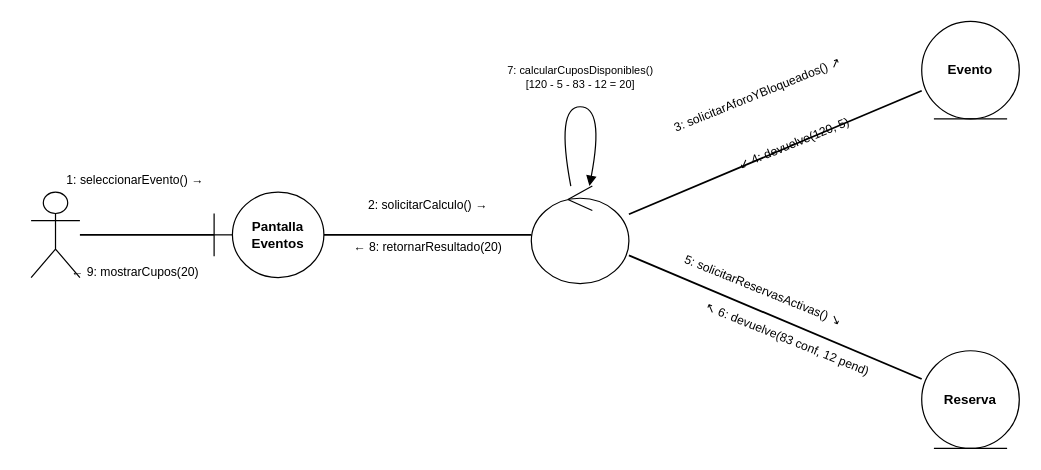
Some shapes in this 1041 by 470 pixel diagram are drawn without their labels. Here are the shapes that lost their labels. From the top down, the centre of each, then its label:
point (55, 234): Estudiante
point (579, 234): Calcular Disponibilidad
